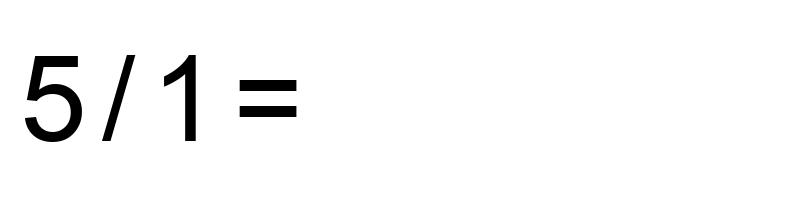/: (102, 32, 136, 167)
1: (151, 32, 218, 167)
5: (20, 32, 87, 167)
=: (233, 32, 303, 167)
